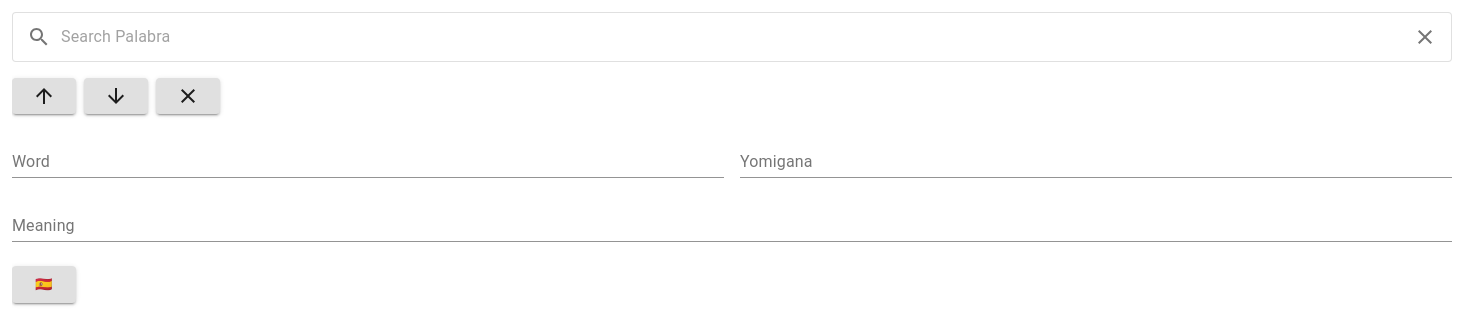
Scenario: move down then clear
Type "aaa" into the field with placeholder "Search Palabra". click: (732, 37)
box: x1=61 y1=21 x2=1403 y2=53
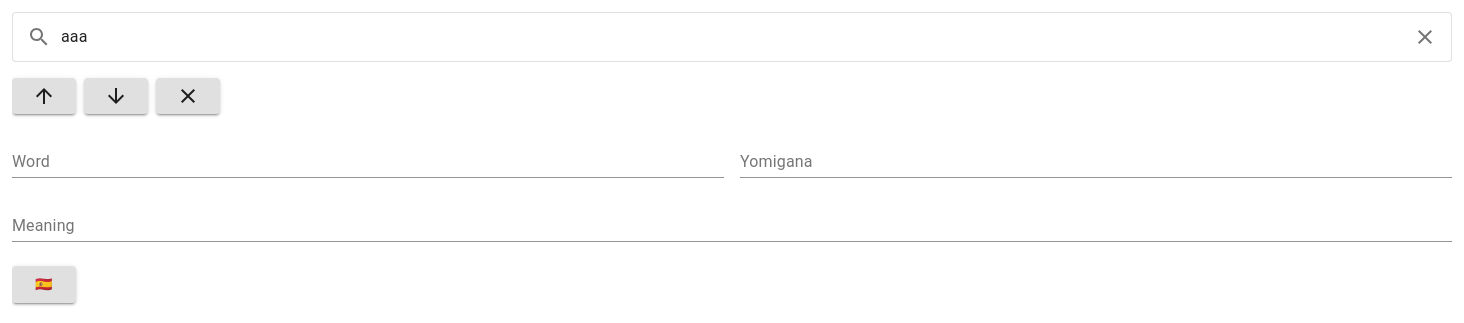
Click the button named "from search". click: (116, 96)
box: x1=84 y1=78 x2=148 y2=114
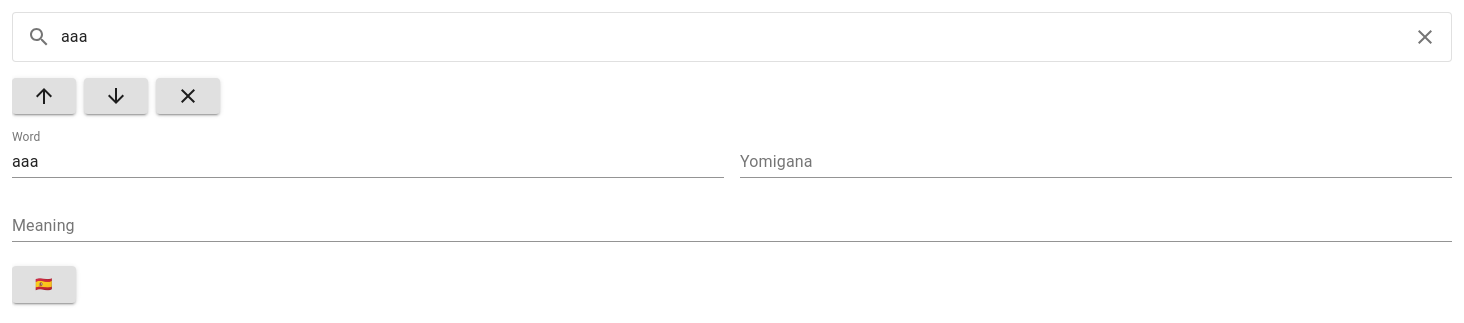
Check: the field named "yomigana" is empty, box x1=740 y1=146 x2=1452 y2=178
Check: the field named "word" holds "aaa", box x1=12 y1=146 x2=724 y2=178
Click the button named "clear all". click: (188, 96)
box: x1=156 y1=78 x2=220 y2=114
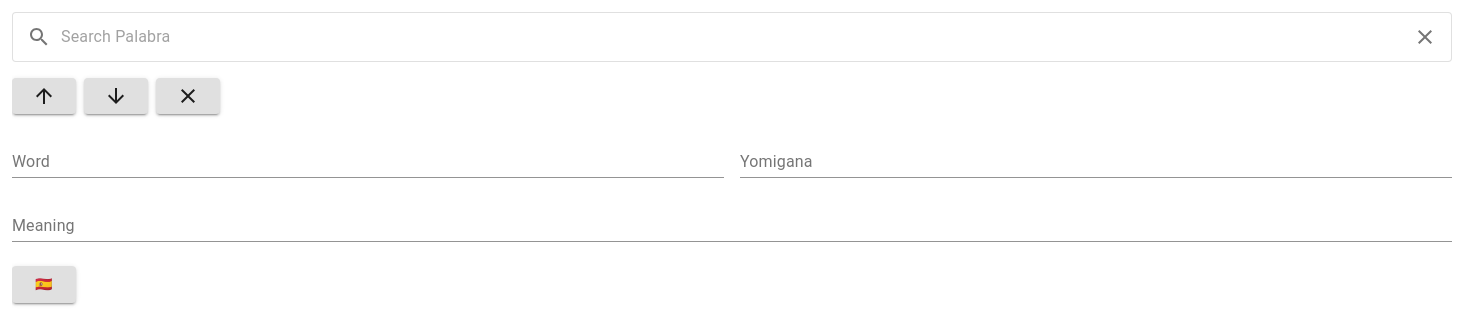
Check: the field named "yomigana" is empty, box x1=740 y1=146 x2=1452 y2=178
Check: the field named "word" is empty, box x1=12 y1=146 x2=724 y2=178
Check: the field with placeholder "Search Palabra" is empty, box x1=61 y1=21 x2=1403 y2=53
